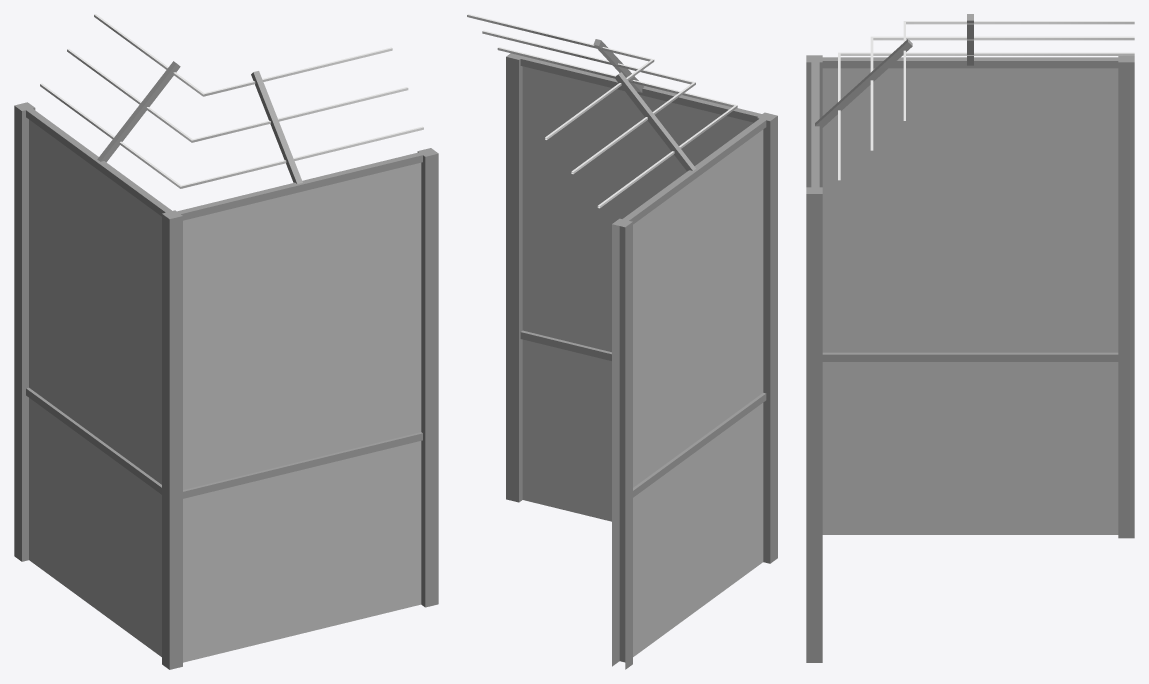
The model's file is SM_Grid_Corner_200.FBX.
3 renders of one model, left to right at view 1: azimuth 30°, elevation 25°; view 2: azimuth 150°, elevation 25°; view 3: azimuth 270°, elevation 25°, orthographic. The views are drawn at different scales.
Parts seen in each view (by area): view 1: SM_Grid_Corner_200; view 2: SM_Grid_Corner_200; view 3: SM_Grid_Corner_200.
Boxes of the visible parts, x1,y1,x2,y2 form: SM_Grid_Corner_200: (14, 14, 438, 669); SM_Grid_Corner_200: (467, 14, 777, 669); SM_Grid_Corner_200: (806, 14, 1134, 662).
Bounding box in the file's own units: 200 × 200 × 377.
